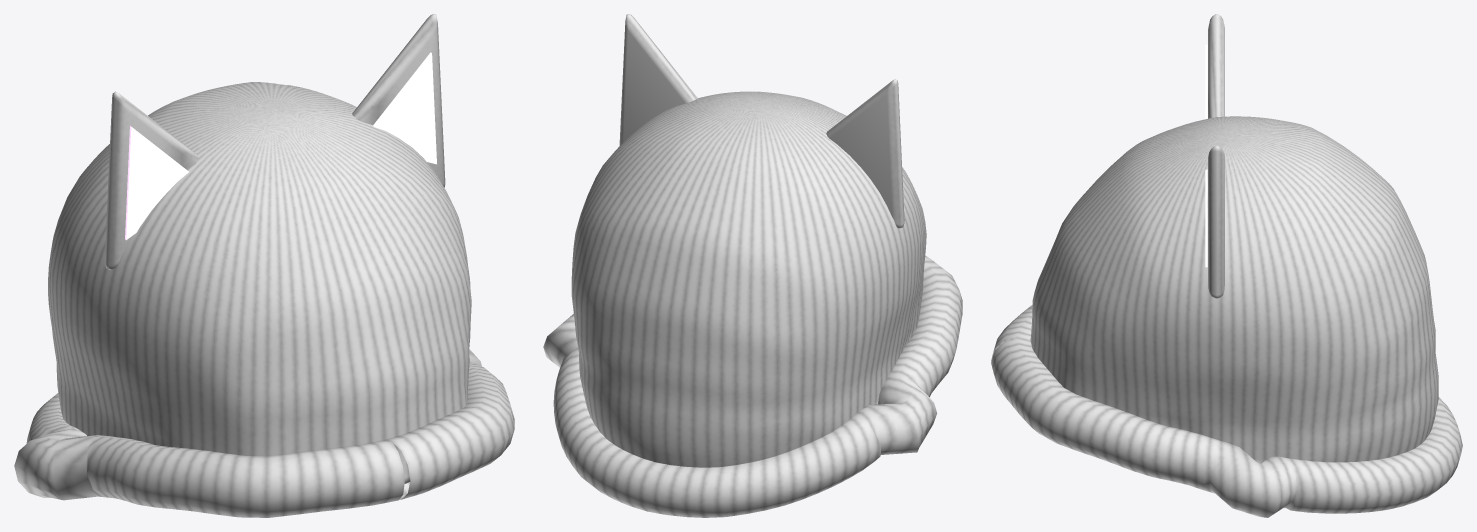
The model's file is acc_cat_ears_male.glb.
The picture shows the model from 3 angles, left to right: view 1: azimuth 30°, elevation 25°; view 2: azimuth 150°, elevation 25°; view 3: azimuth 270°, elevation 25°; orthographic projection. The views are drawn at different scales.
Visible parts, largest first — view 1: cat_ears; view 2: cat_ears; view 3: cat_ears.
Boxes of the visible parts, <box> form: cat_ears: <box>14,14,514,517</box>; cat_ears: <box>543,14,962,517</box>; cat_ears: <box>991,14,1462,517</box>.
Size of the model in its own units: 0.2326 by 0.2278 by 0.2499.
2 materials, 1 textured.
